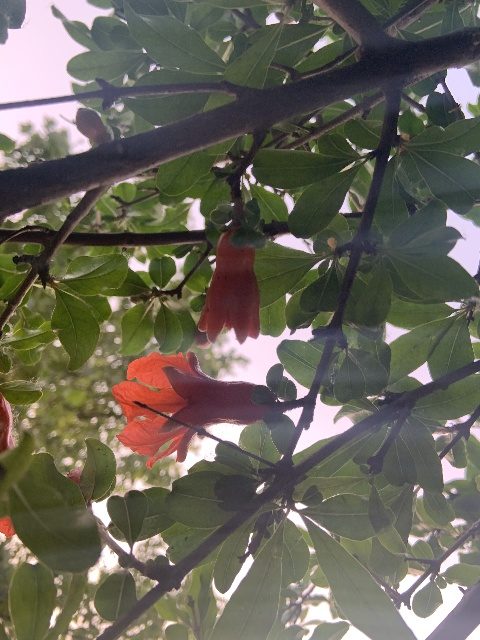flower: (109, 349, 276, 469), (197, 225, 260, 346)
